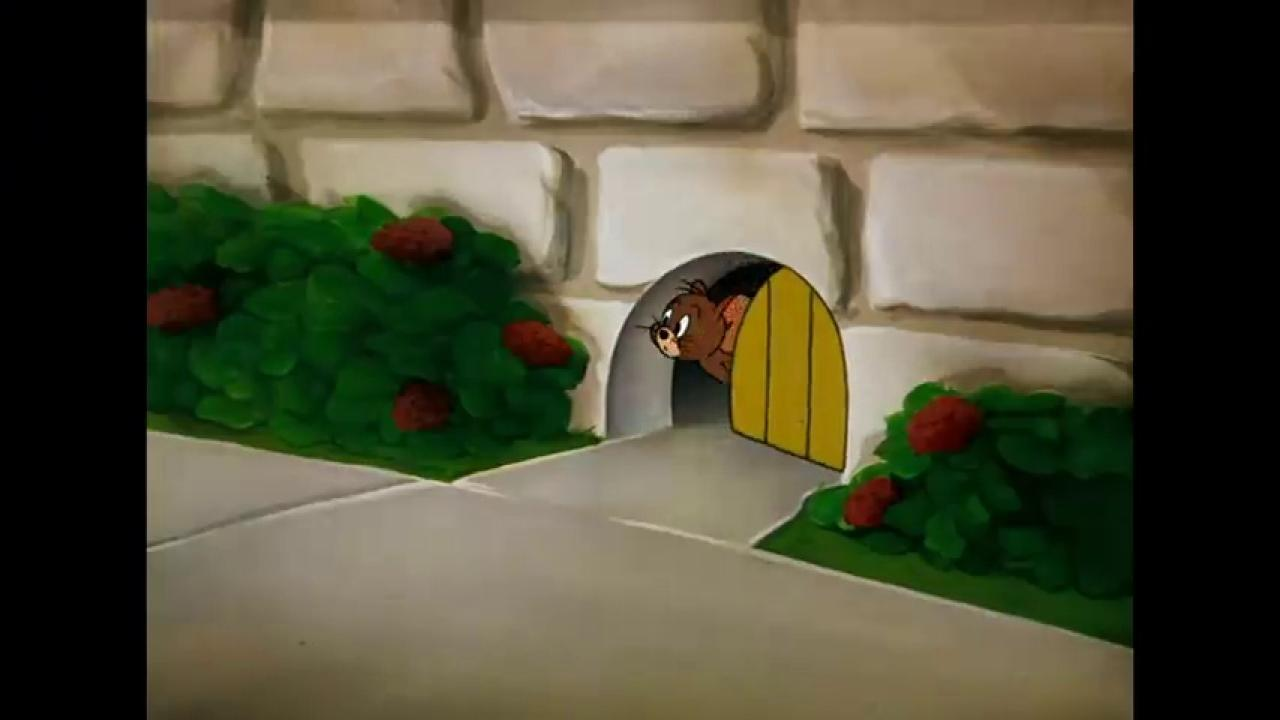Jerry: (638, 278, 752, 385)
